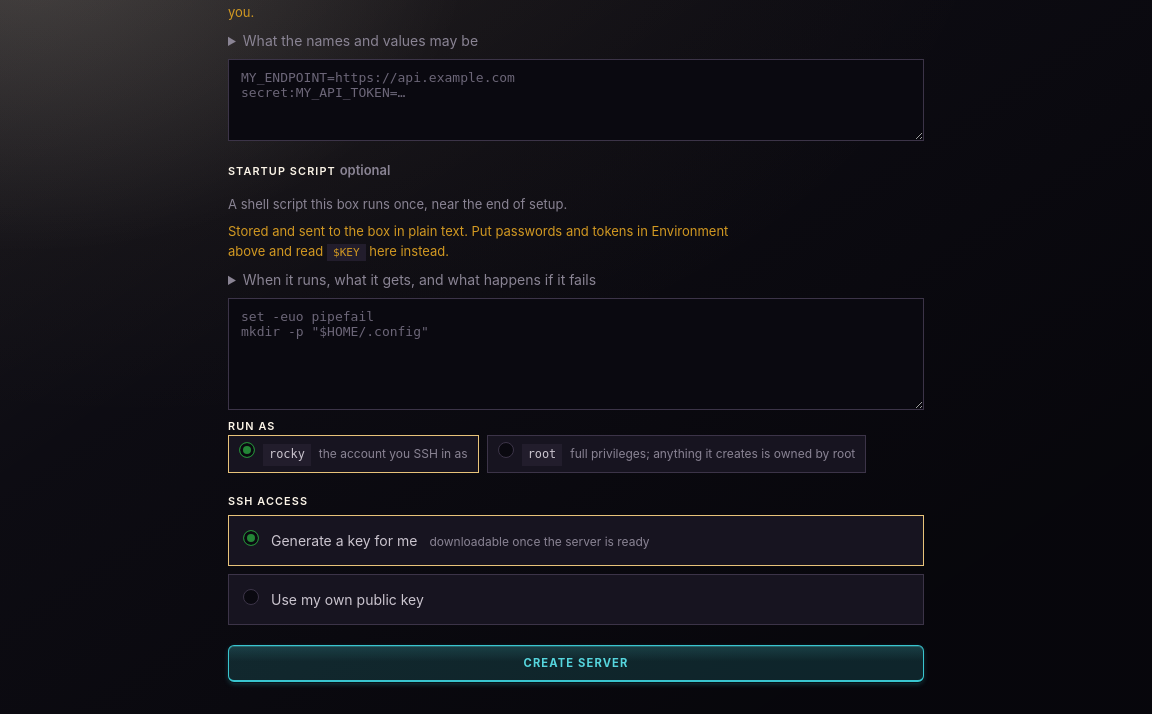
Test: pack metadata drives the conditional fields › submitting a repos-requiring pack with no repositories › offers a confirmation instead of creating
(page scrolled)
What coordinates should you click on to do the following:
click the button "Create Server"
I would click on:
 (576, 663)
Its box is [228,645,924,682].
(page scrolled)
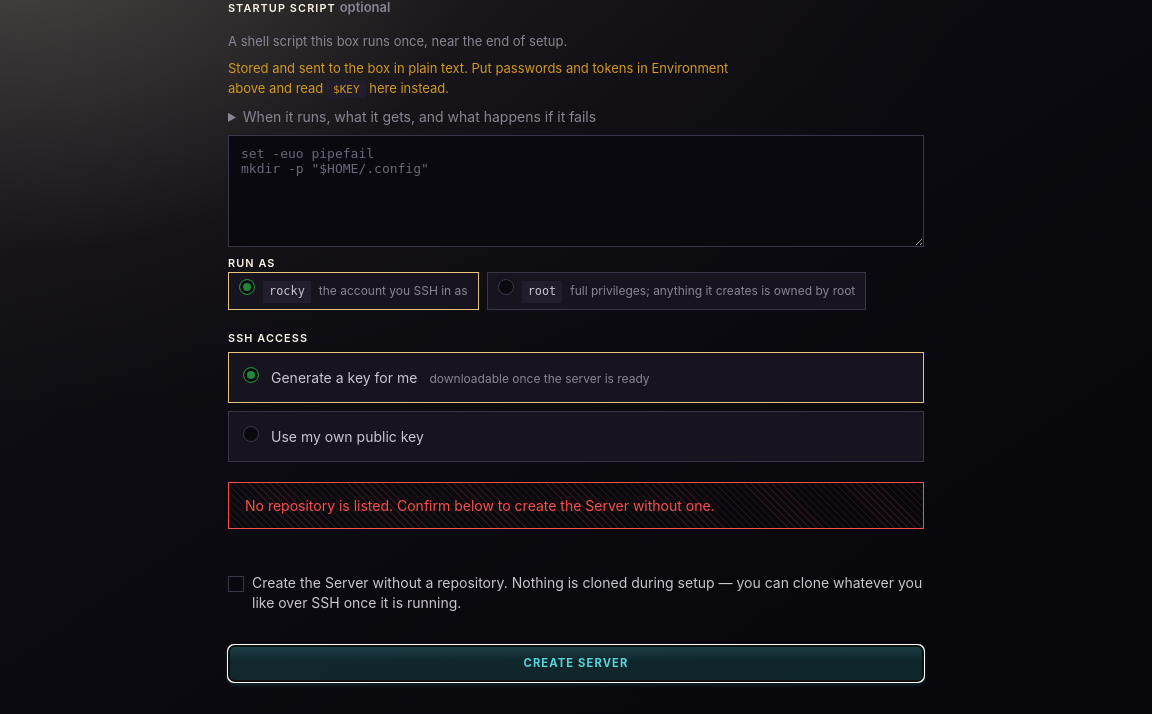
Now the text "No repository is listed" is shown, box [245,497,715,514]
Now the checkbox labelled "without a repository" is shown, box [228,576,244,592]
